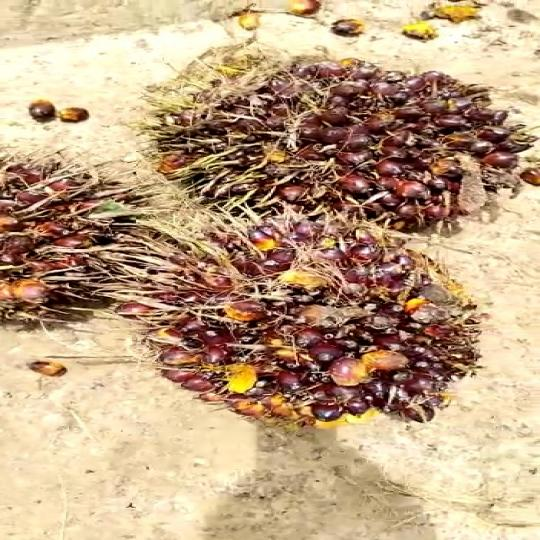masak: (126, 207, 501, 438), (124, 53, 540, 244)
